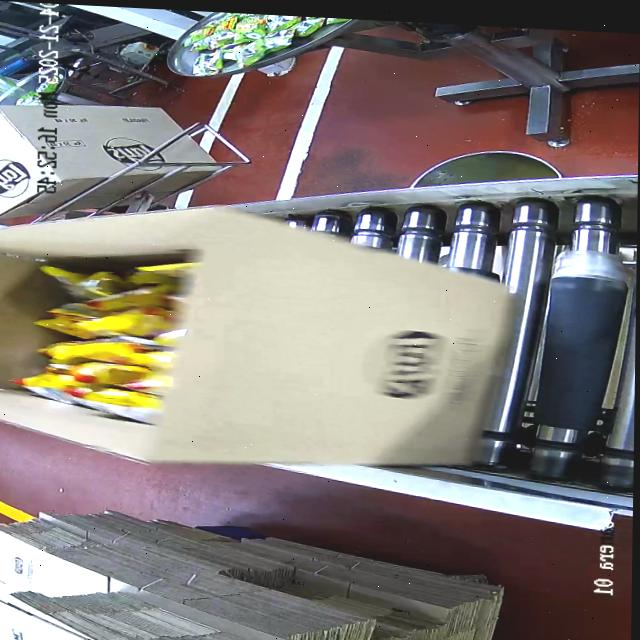SALTED: (28, 244, 198, 423)
